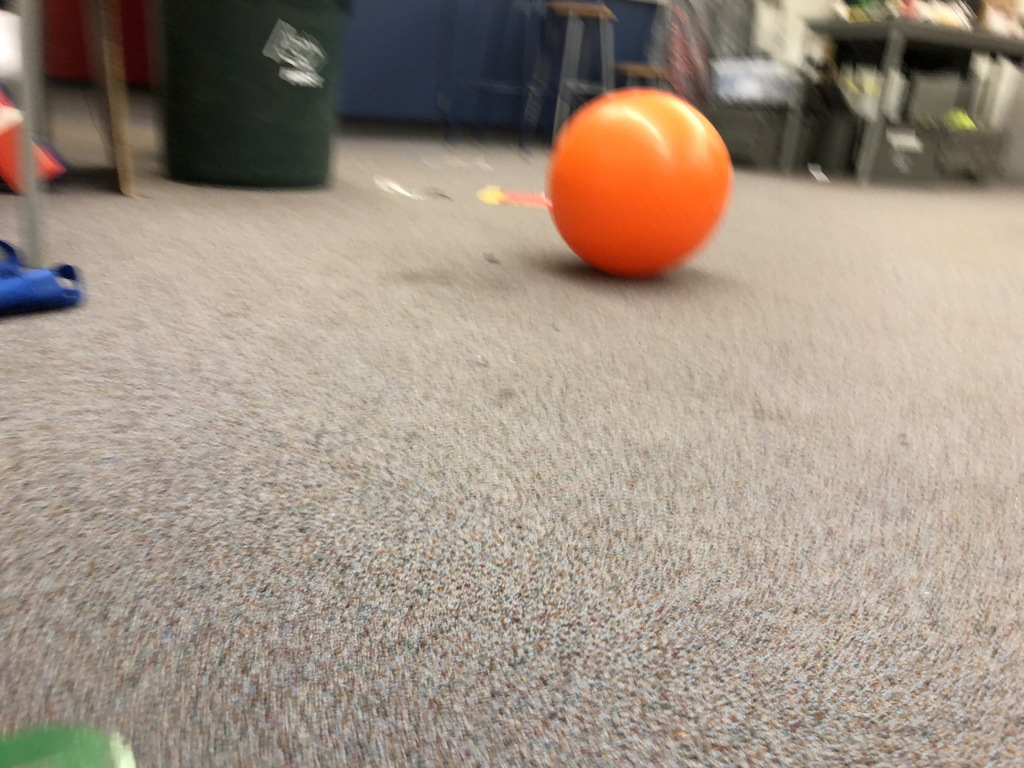cargo: (542, 80, 738, 290)
